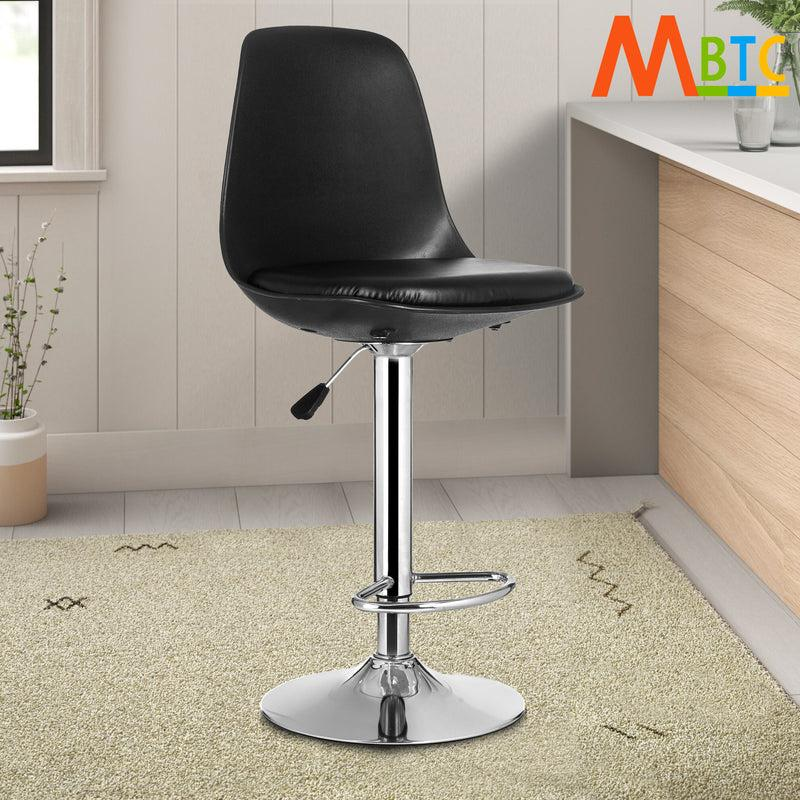chair: (211, 13, 589, 749)
